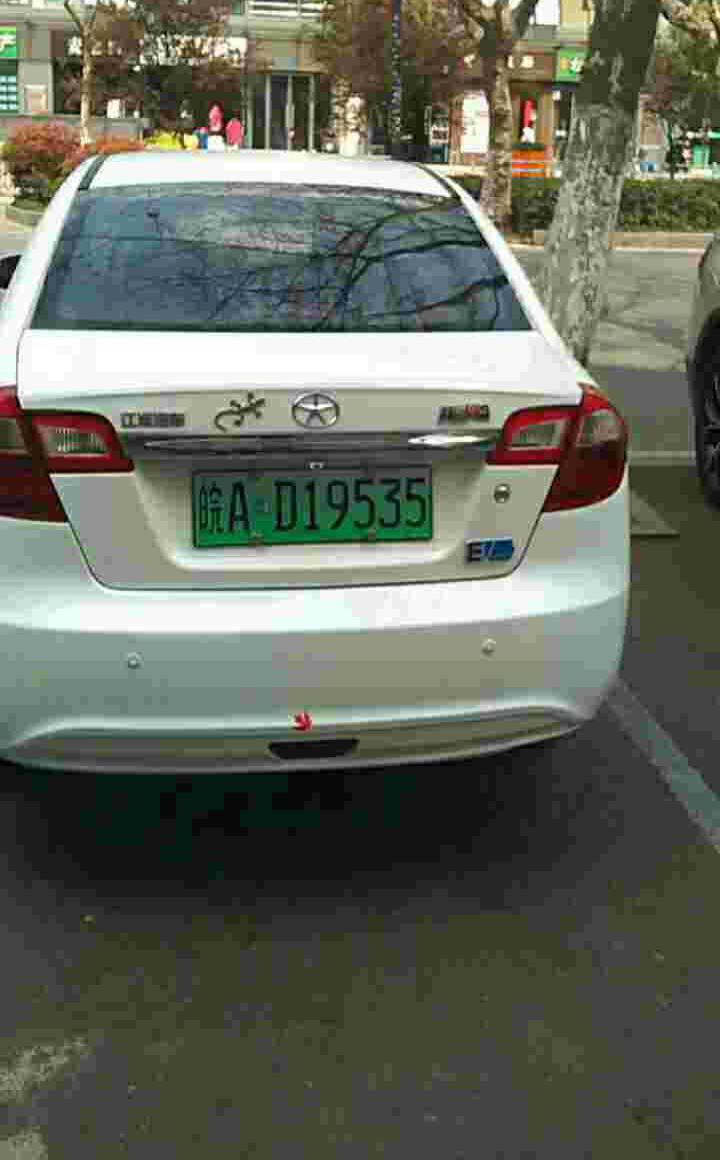car: (184, 469, 446, 548)
